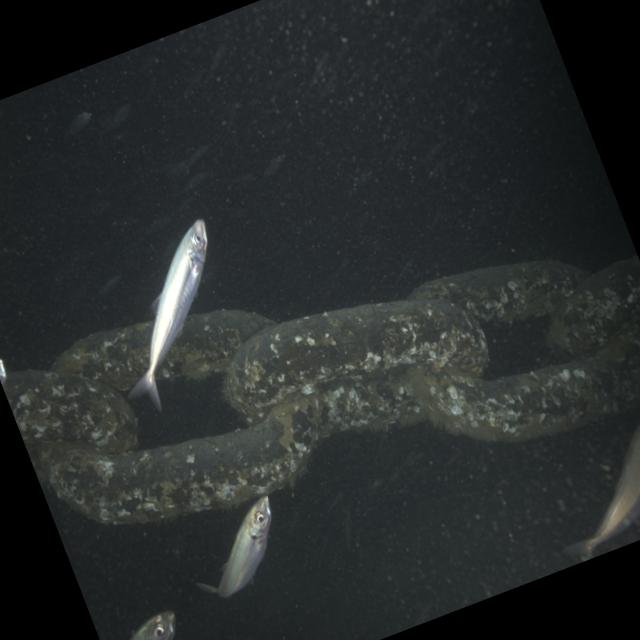ChainLink: (48, 392, 320, 523), (228, 299, 487, 436), (424, 340, 640, 442), (0, 361, 137, 484), (410, 261, 581, 324), (549, 257, 640, 355), (157, 310, 272, 378), (54, 323, 153, 390)
